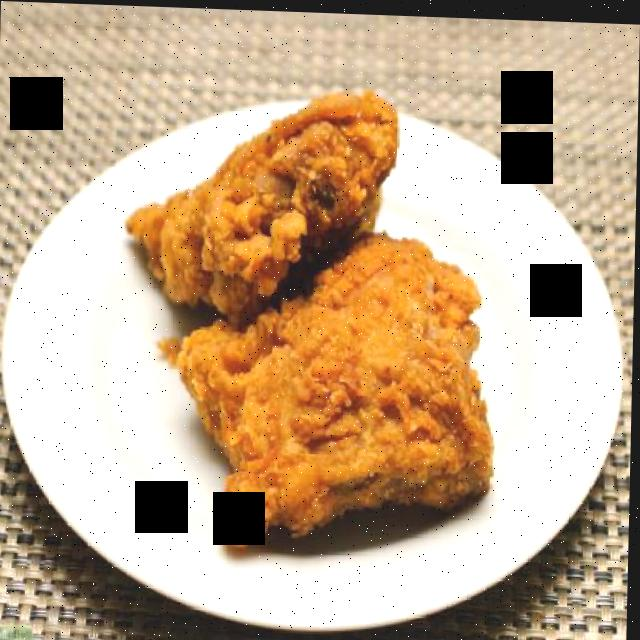Frango: (175, 222, 501, 555), (124, 79, 399, 323)
